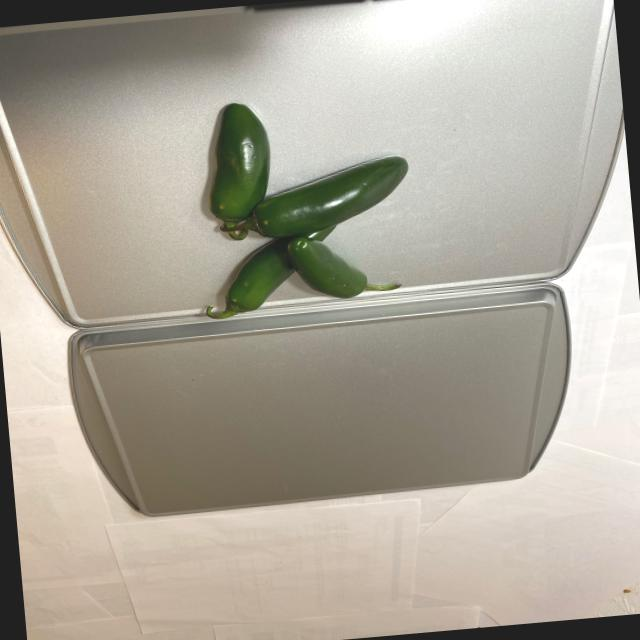chilli: (174, 86, 426, 327)
